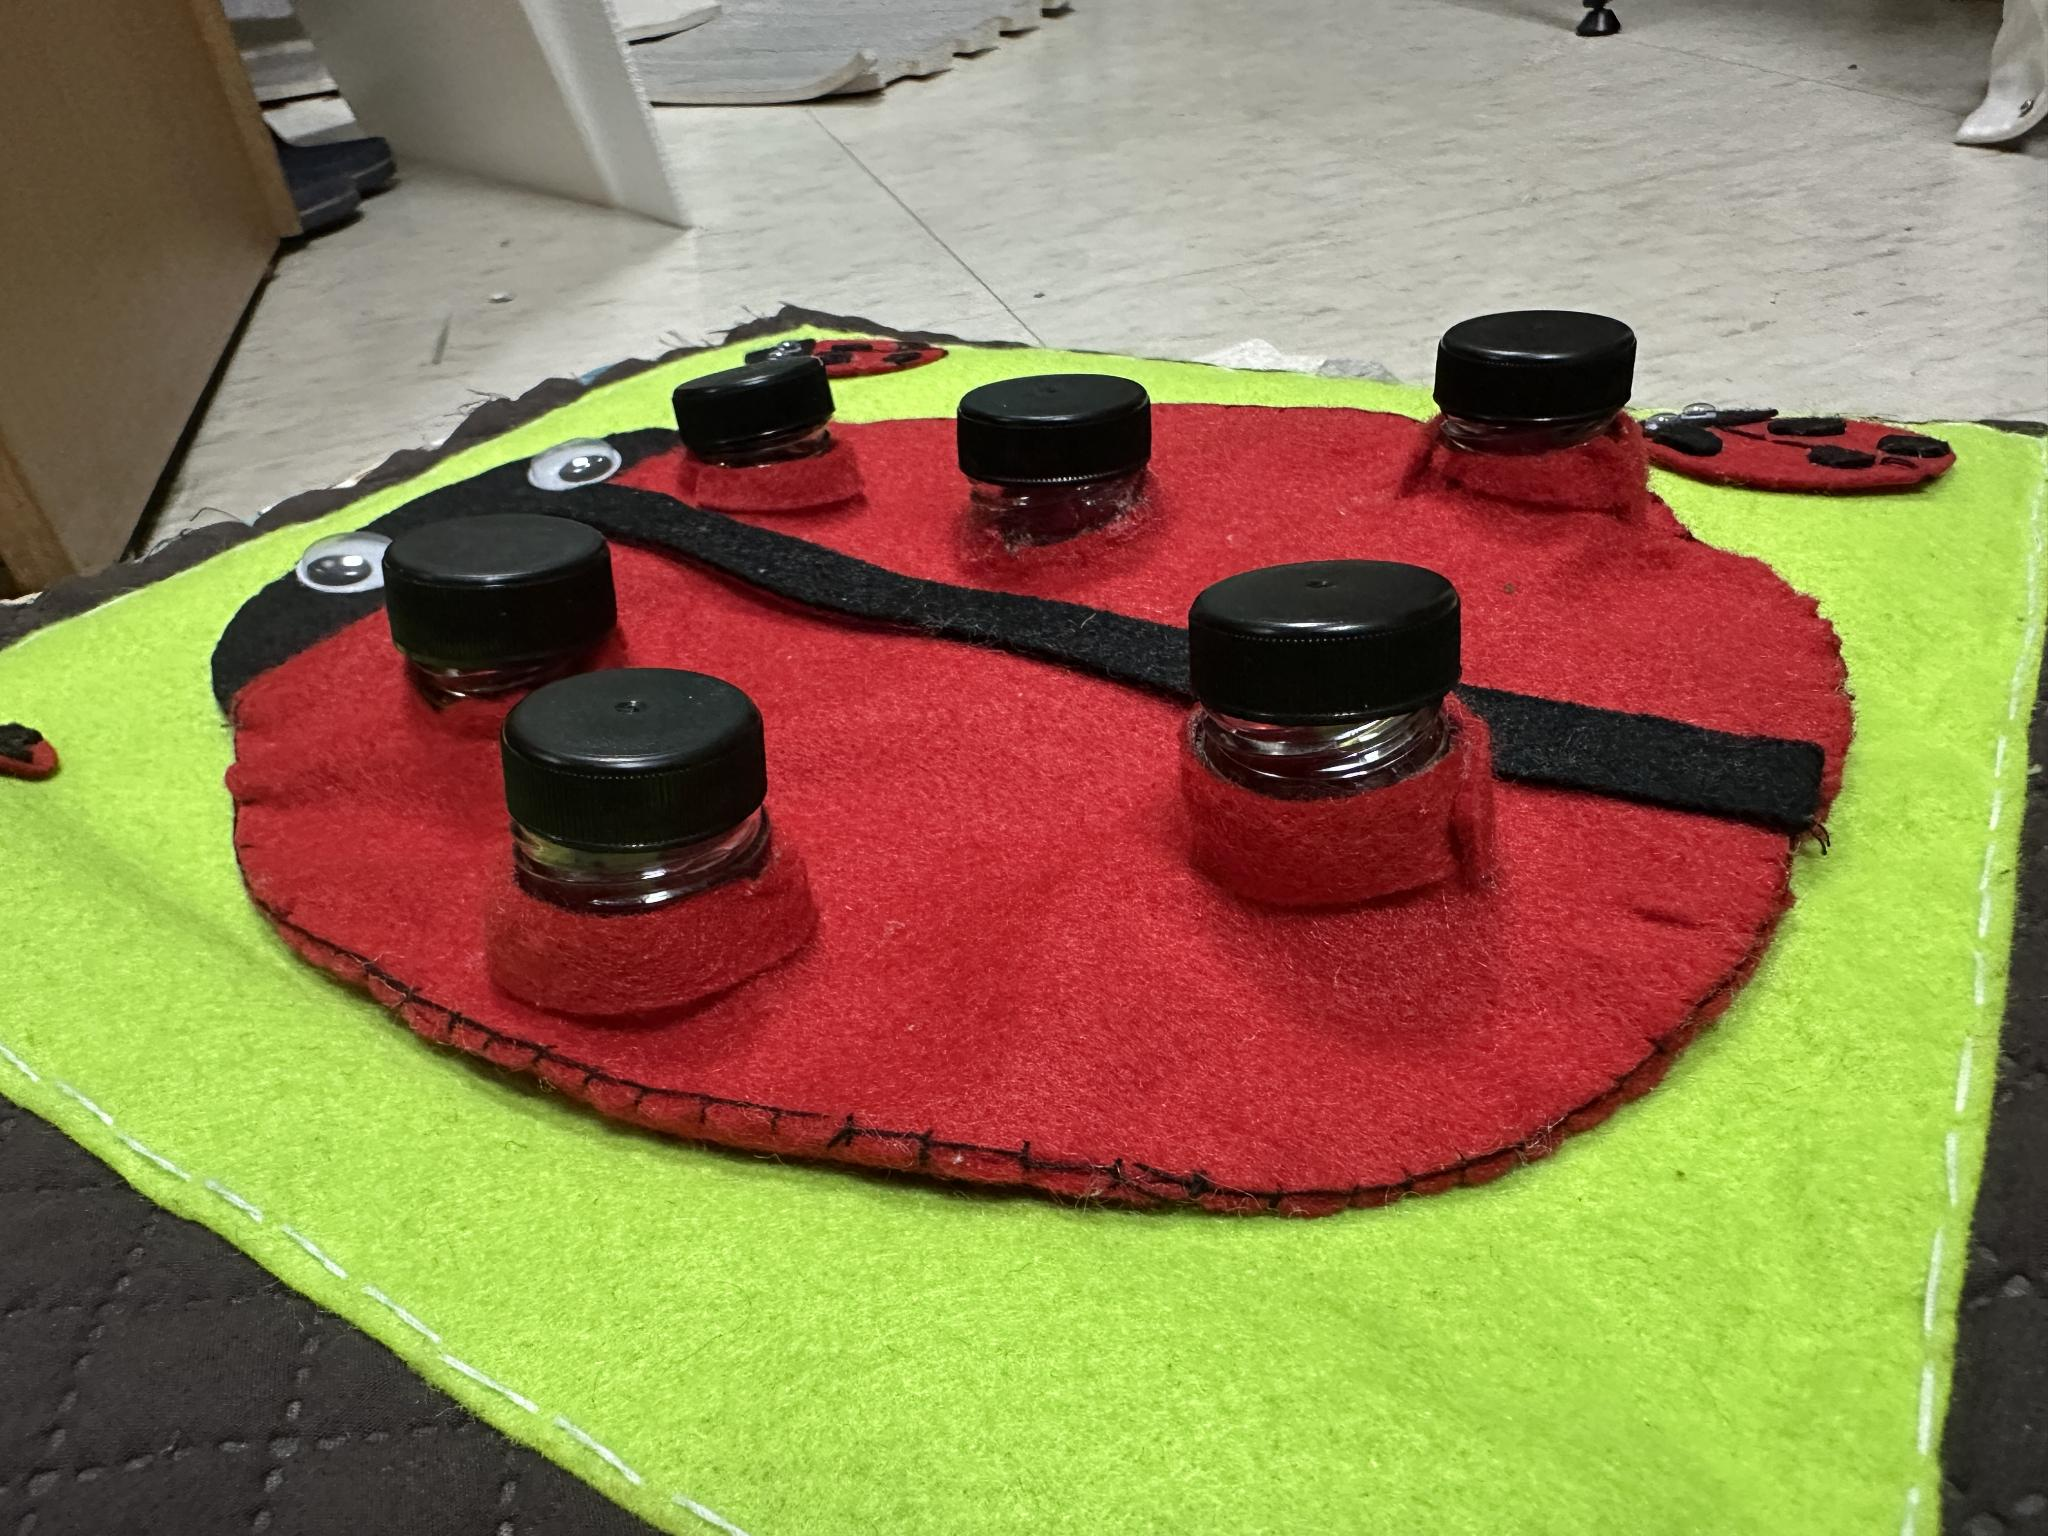cap_ng: (1151, 537, 1530, 936), (466, 665, 842, 1058), (376, 507, 634, 733), (1417, 289, 1651, 532), (927, 347, 1164, 581), (669, 339, 876, 532)
